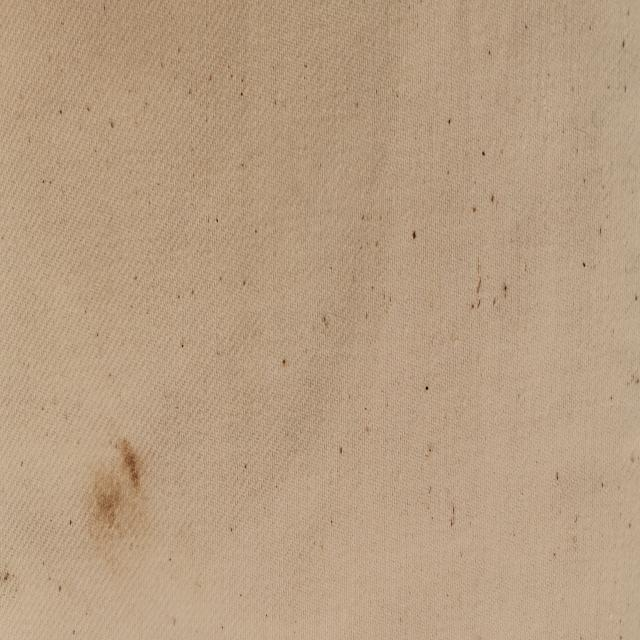taaaches: (92, 436, 145, 533)
